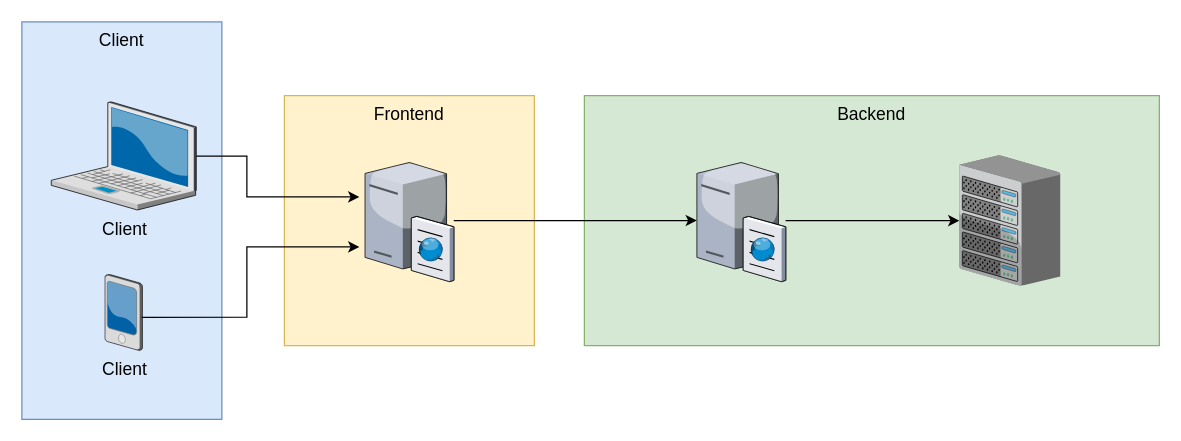
This 1181x441 diagram has some shape labels left out. The shapes that lost their labels are listed below. From the top down, each one's centre as x and y in pixels, then its label:
[408,220]: Web Server (Node, React)
[740,220]: Web Server (Node, Express)
[1009,220]: Database (MySQL)
